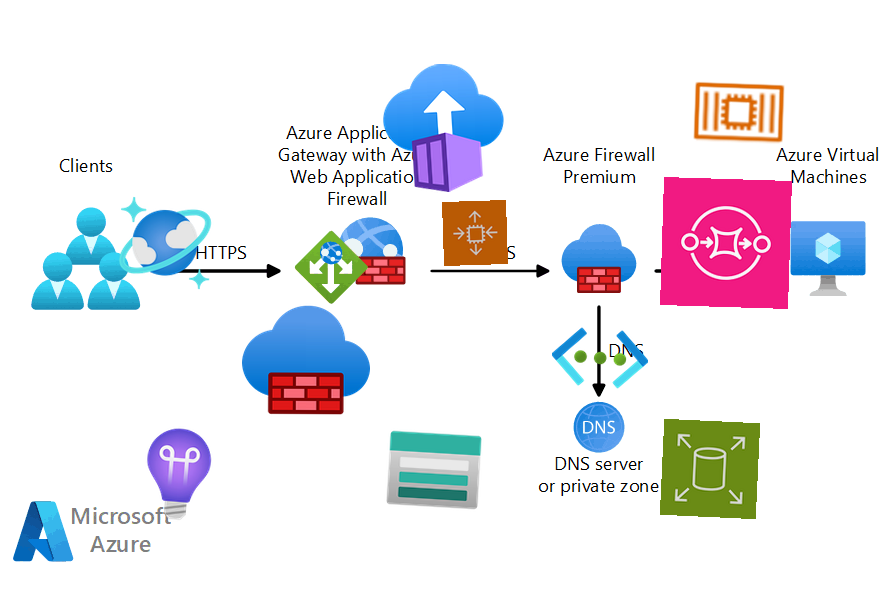aws_amazon_ec2_auto_scaling: (441, 199, 509, 267)
aws_amazon_elastic_block_store: (659, 418, 761, 520)
aws_amazon_simple_queue_service: (660, 177, 792, 309)
aws_elastic_container_service_container_2: (689, 62, 789, 162)
azure_application_insights: (126, 422, 230, 526)
azure_container_instances: (375, 59, 513, 197)
azure_cosmos_db: (115, 193, 215, 293)
azure_firewalls: (241, 295, 371, 425)
azure_storage_accounts: (383, 419, 485, 521)
azure_virtual_networks: (548, 306, 652, 410)
